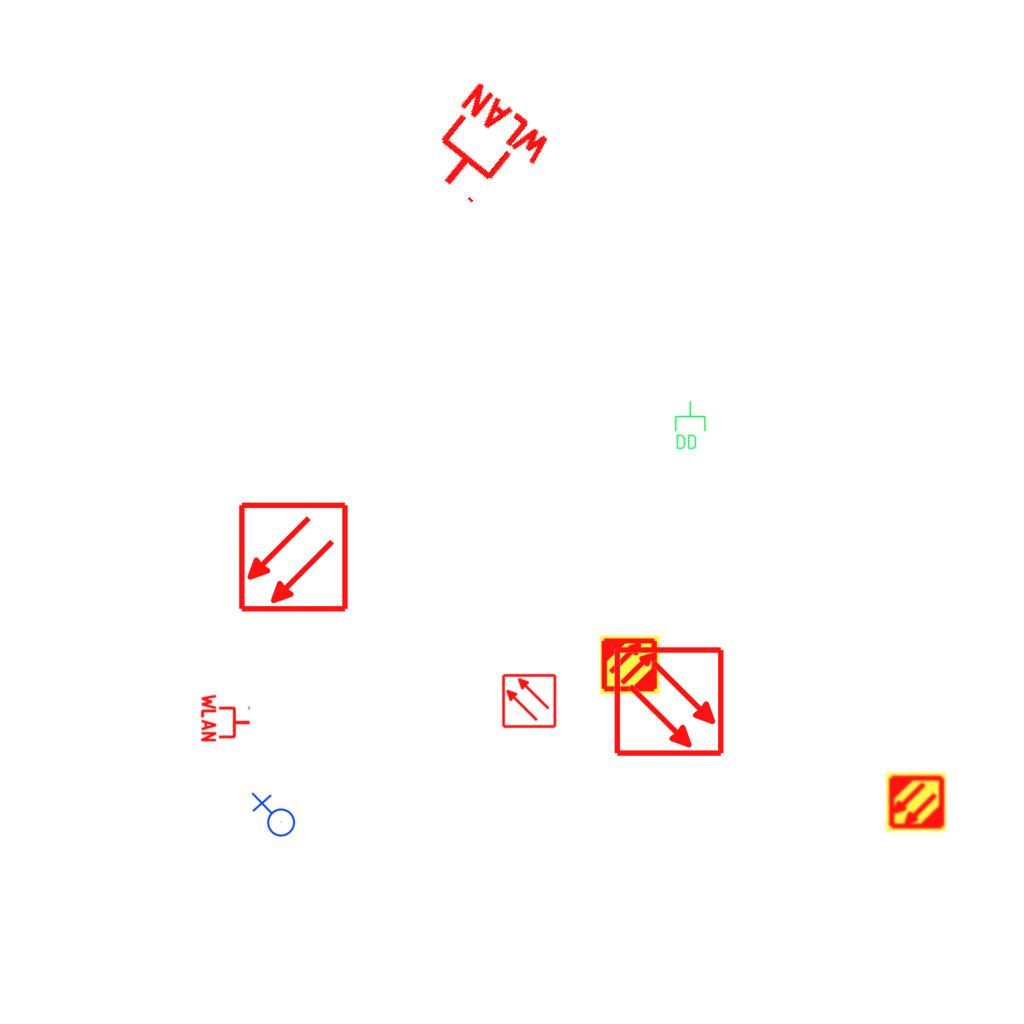ASR_Ansaugrauchmelder: (599, 634, 661, 696), (885, 771, 947, 833)
Datenanschluss_zweifach: (673, 400, 707, 451)
Elektroanschluss_allgemein_230V_Geraeteanschlussdose_230V: (249, 792, 296, 841)
RMO_Rauchmelder_optischer: (237, 501, 350, 614), (613, 645, 726, 758), (501, 673, 557, 729)
WLAN: (411, 77, 558, 225), (200, 692, 252, 744)
